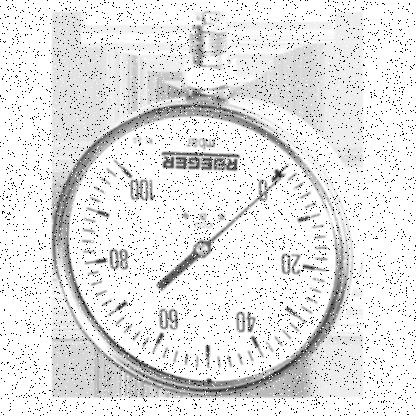needle: (206, 172, 287, 246)
